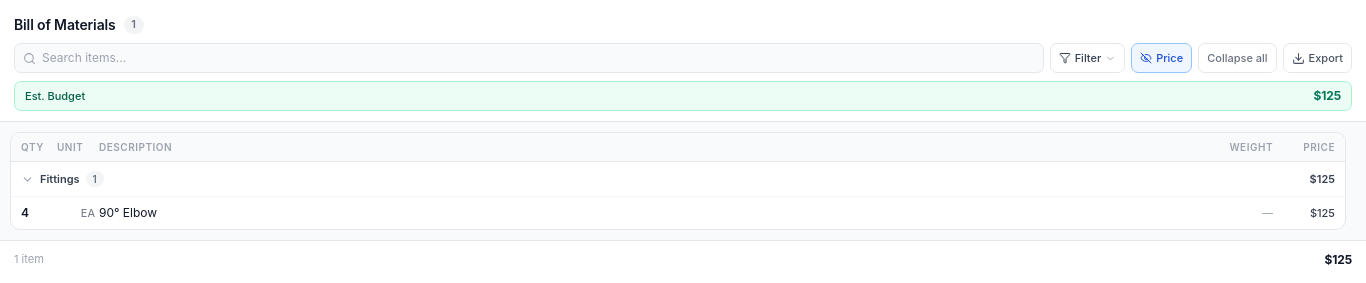
Test: BOMPanel › shows Price by default in estimation mode and the toggle collapses it
Expected: the element showing "Qty Unit Description Weight Price" is shown, [21,140,1335,152]
Click the button "Price".
click(1162, 58)  # box [1131,43,1192,73]
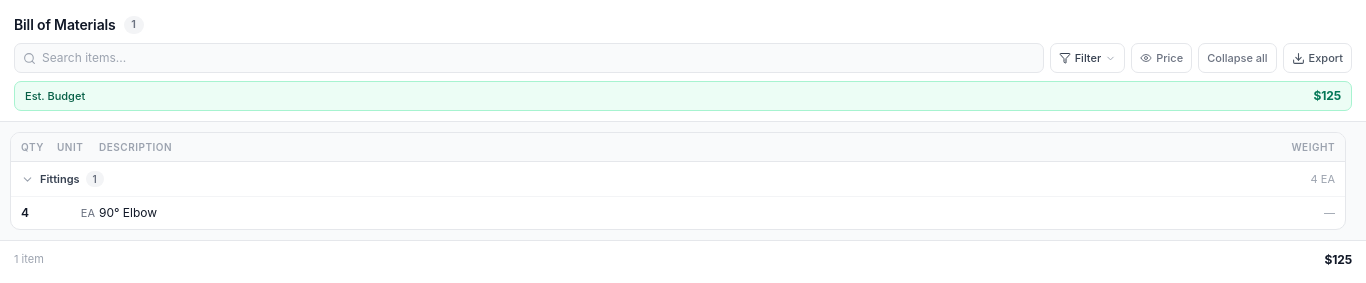
Result: the text "Price" is gone
